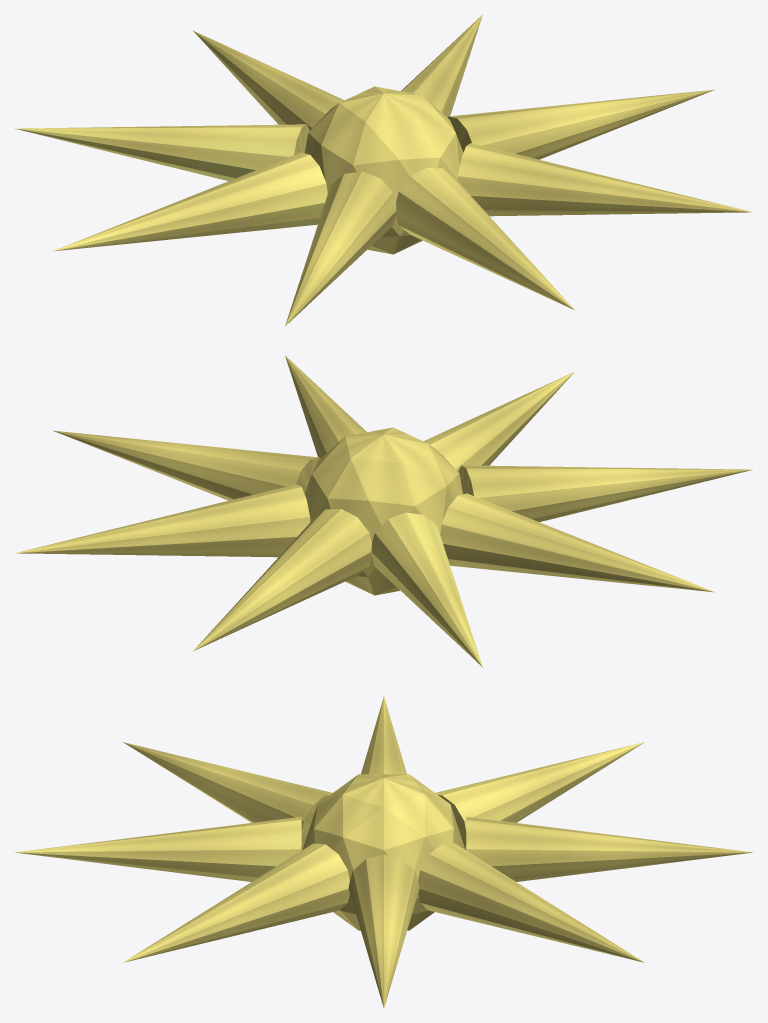
File: critical-hit-burst.glb
The picture shows the model from 3 angles, top to bottom: view 1: azimuth 30°, elevation 25°; view 2: azimuth 150°, elevation 25°; view 3: azimuth 270°, elevation 25°; orthographic projection. The views are drawn at different scales.
Visible parts, largest first — view 1: critical-core, critical-spike-4, critical-spike-7, critical-spike-3, critical-spike-6, critical-spike-0, critical-spike-5, critical-spike-2, critical-spike-1; view 2: critical-core, critical-spike-4, critical-spike-1, critical-spike-5, critical-spike-2, critical-spike-0, critical-spike-3, critical-spike-6, critical-spike-7; view 3: critical-core, critical-spike-2, critical-spike-6, critical-spike-1, critical-spike-7, critical-spike-0, critical-spike-3, critical-spike-5, critical-spike-4.
Part boxes in pixels (<box>): critical-core: <box>305,86,463,254</box>; critical-spike-4: <box>53,152,327,251</box>; critical-spike-7: <box>457,143,752,216</box>; critical-spike-3: <box>15,124,309,180</box>; critical-spike-6: <box>396,168,574,310</box>; critical-spike-0: <box>447,89,714,159</box>; critical-spike-5: <box>285,171,396,326</box>; critical-spike-2: <box>193,30,344,130</box>; critical-spike-1: <box>401,14,482,117</box>; critical-core: <box>304,427,462,595</box>; critical-spike-4: <box>440,493,714,592</box>; critical-spike-1: <box>15,484,310,557</box>; critical-spike-5: <box>458,465,752,521</box>; critical-spike-2: <box>193,509,371,651</box>; critical-spike-0: <box>53,430,320,500</box>; critical-spike-3: <box>371,512,482,667</box>; critical-spike-6: <box>423,371,574,471</box>; critical-spike-7: <box>285,355,366,458</box>; critical-core: <box>302,774,465,930</box>; critical-spike-2: <box>466,816,753,881</box>; critical-spike-6: <box>14,816,301,881</box>; critical-spike-1: <box>418,843,644,962</box>; critical-spike-7: <box>123,843,349,962</box>; critical-spike-0: <box>348,854,419,1007</box>; critical-spike-3: <box>435,742,644,850</box>; critical-spike-5: <box>123,742,332,850</box>; critical-spike-4: <box>361,697,406,774</box>.
Bounding box in the file's own units: 0.72 × 0.16 × 0.72.
Materials: 9 (9 with a texture image).
